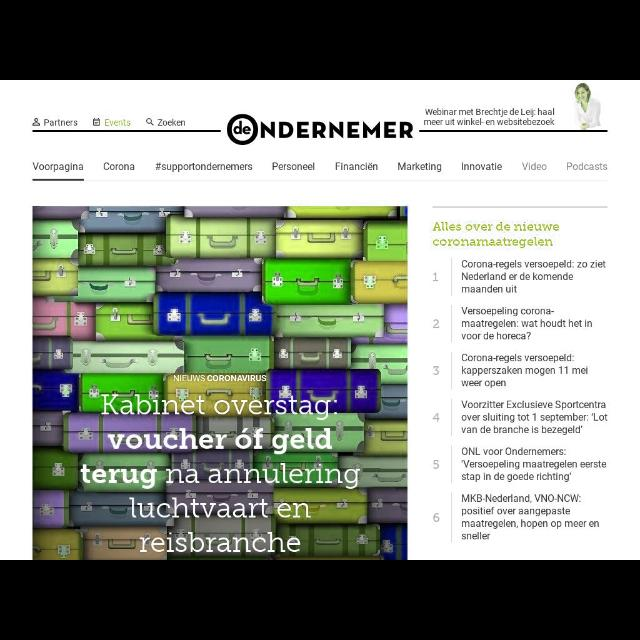icon: (93, 117, 101, 127), (32, 118, 40, 126), (146, 118, 152, 126)
image: (31, 206, 406, 560), (226, 112, 414, 146), (573, 83, 603, 129)
multitab: (3, 156, 639, 180)
text: (462, 494, 600, 542), (462, 446, 606, 486), (461, 304, 594, 342), (462, 259, 606, 293), (462, 352, 590, 390), (462, 401, 608, 432), (433, 220, 559, 250), (424, 107, 556, 127), (155, 163, 253, 173), (33, 162, 83, 174), (272, 160, 316, 173), (334, 160, 380, 172), (461, 162, 504, 172), (566, 162, 608, 172), (398, 164, 440, 172), (103, 162, 135, 172), (45, 119, 77, 128), (521, 163, 547, 173), (157, 118, 186, 125), (106, 118, 130, 126)
